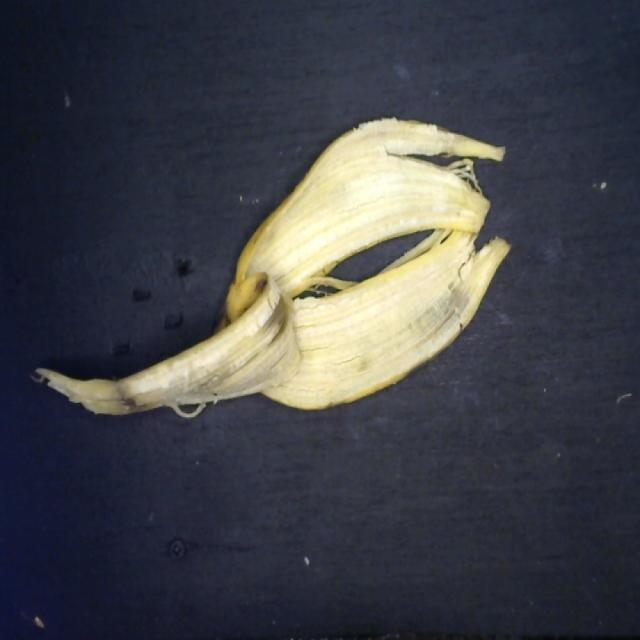biodegradable: (32, 108, 518, 430)
